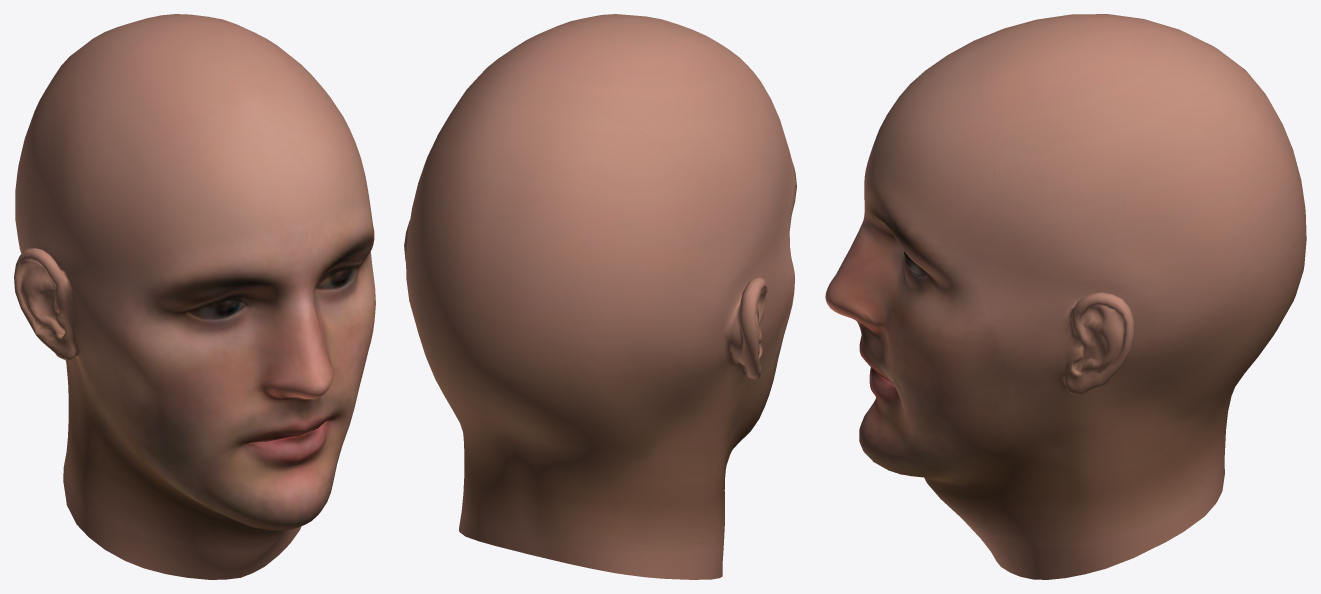
The picture shows the model from 3 angles, left to right: view 1: azimuth 30°, elevation 25°; view 2: azimuth 150°, elevation 25°; view 3: azimuth 270°, elevation 25°; orthographic projection. The views are drawn at different scales.
Visible parts, largest first — view 1: HeadHires; view 2: HeadHires; view 3: HeadHires.
Part boxes in pixels (x1,y1,x2,y2): HeadHires: (14, 14, 375, 579); HeadHires: (404, 14, 796, 579); HeadHires: (825, 14, 1306, 579).
Bounding box in the file's own units: 189 × 283 × 234.
